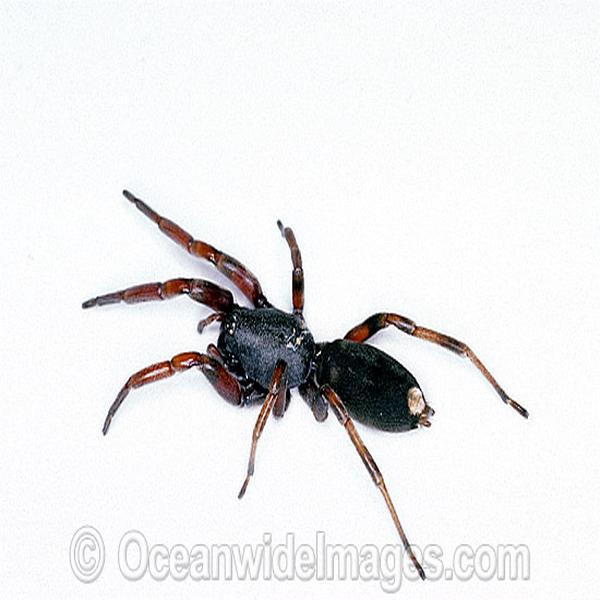White-Tailed Spider: (96, 194, 513, 550)
